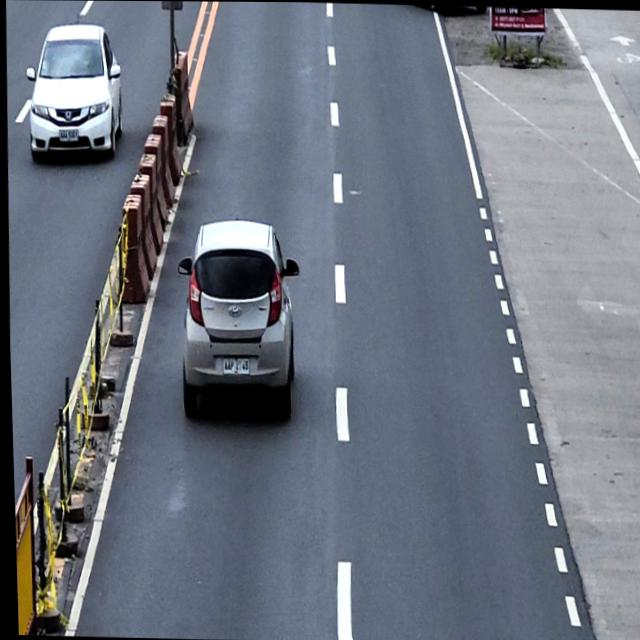Car: (170, 212, 303, 421), (20, 21, 125, 165)
License-Plate: (219, 357, 248, 376), (55, 128, 78, 140)
